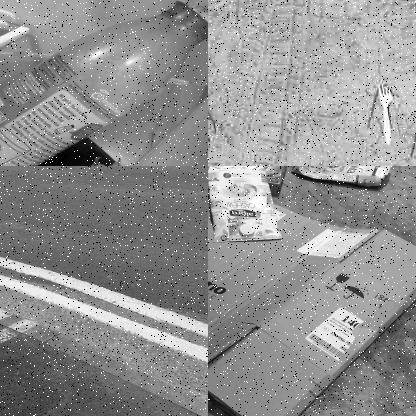cardboard: (208, 191, 415, 415), (298, 166, 390, 188), (215, 166, 287, 191)
plastic: (0, 0, 207, 165), (208, 166, 283, 242), (375, 85, 402, 149)
